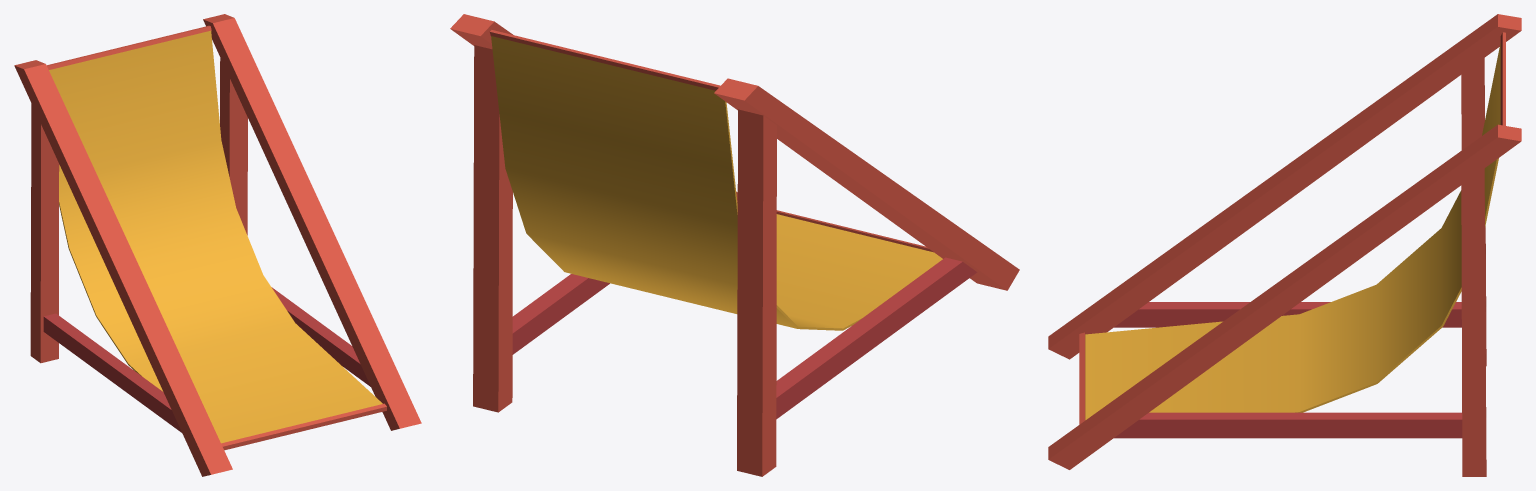
File: Bed_A.fbx
The picture shows the model from 3 angles, left to right: view 1: azimuth 30°, elevation 25°; view 2: azimuth 150°, elevation 25°; view 3: azimuth 270°, elevation 25°; orthographic projection. The views are drawn at different scales.
Parts seen in each view (by area): view 1: Bed_A; view 2: Bed_A; view 3: Bed_A.
Boxes of the visible parts, x1,y1,x2,y2 form: Bed_A: [14, 14, 421, 476]; Bed_A: [450, 14, 1019, 476]; Bed_A: [1048, 14, 1521, 476].
Bounding box in the file's own units: 57.08 × 73.46 × 92.48.
1 material, 1 textured.
